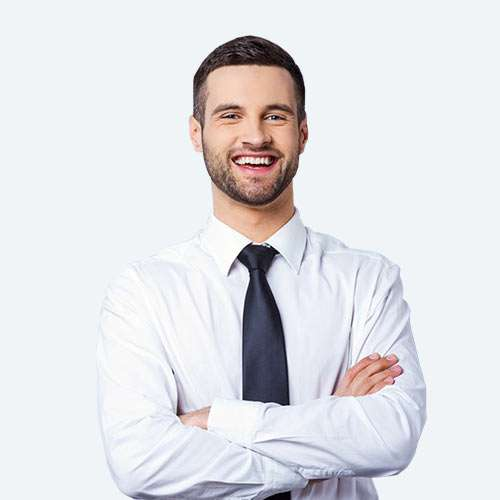human: (79, 31, 435, 500)
